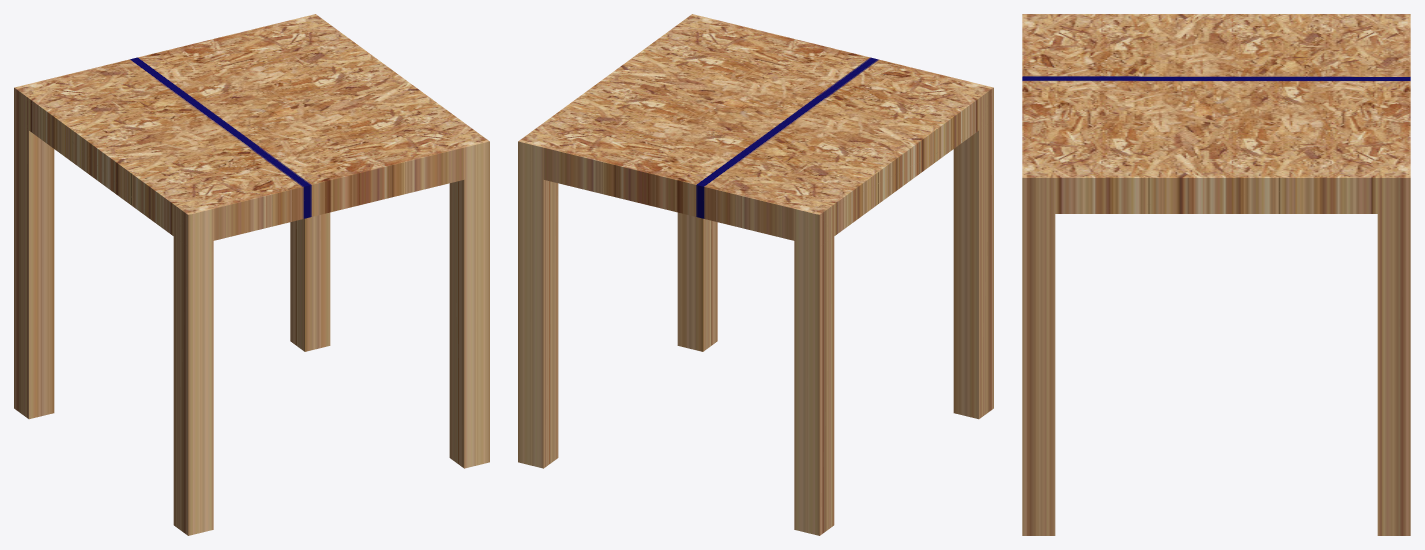
File: lengthening_man3.dae
3 views of the same model, side by side, from view 1: azimuth 30°, elevation 25°; view 2: azimuth 150°, elevation 25°; view 3: azimuth 270°, elevation 25° (orthographic). The views are drawn at different scales.
Parts seen in each view (by area): view 1: Cube; view 2: Cube; view 3: Cube.
Boxes of the visible parts, x1=… form: Cube: x1=14, y1=14, x2=489, y2=535; Cube: x1=518, y1=14, x2=993, y2=535; Cube: x1=1022, y1=14, x2=1410, y2=535.
Size of the model in its own units: 1.18 by 1.18 by 1.2.
Materials: 1 (1 with a texture image).
